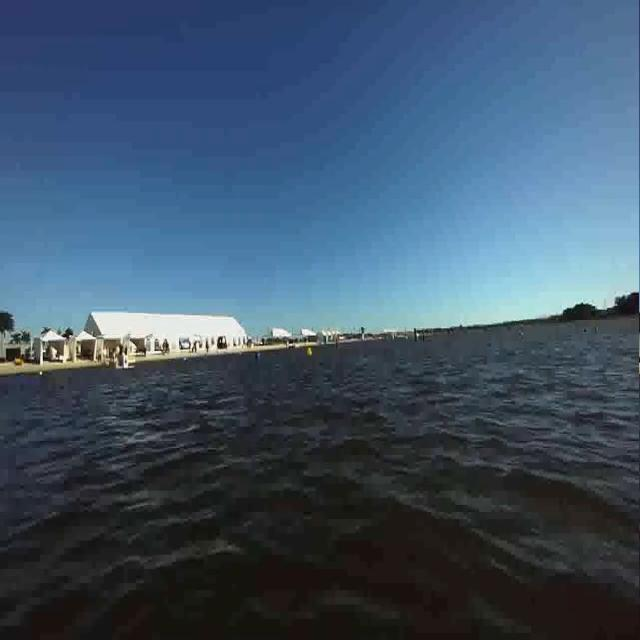yellow-buoy: (308, 346, 314, 358)
